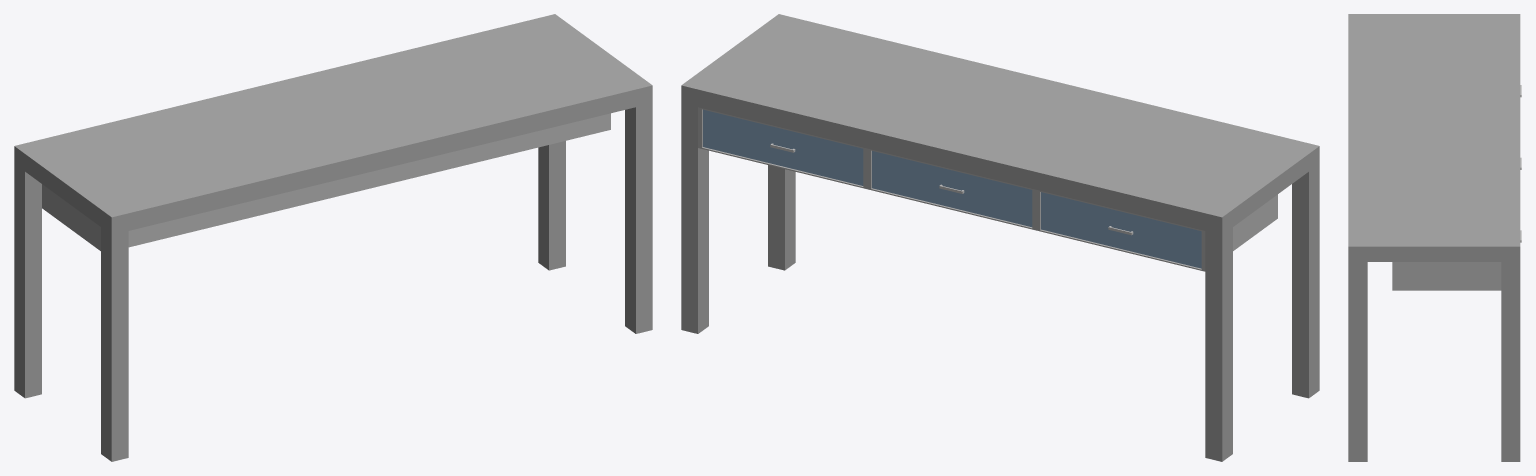
File: Table2.fbx
3 views of the same model, side by side, from view 1: azimuth 30°, elevation 25°; view 2: azimuth 150°, elevation 25°; view 3: azimuth 270°, elevation 25° (orthographic). The views are drawn at different scales.
Parts seen in each view (by area): view 1: Cube, drawer 3, drawer 2, drawer; view 2: Cube, drawer face 3, drawer face, drawer face 2, drawer border 2, drawer border 3, drawer border, drawer 3; view 3: Cube, drawer.
Boxes of the visible parts, box(x1,y1,x2,y2) form: Cube: box(14, 14, 652, 461); drawer 3: box(42, 184, 272, 250); drawer 2: box(273, 154, 441, 212); drawer: box(442, 113, 610, 170); Cube: box(681, 14, 1319, 461); drawer face 3: box(1041, 192, 1201, 268); drawer face: box(703, 109, 863, 185); drawer face 2: box(872, 151, 1032, 226); drawer border 2: box(867, 148, 1036, 230); drawer border 3: box(1036, 190, 1205, 271); drawer border: box(698, 107, 867, 188); drawer 3: box(1233, 194, 1277, 250); Cube: box(1348, 14, 1520, 461); drawer: box(1392, 262, 1501, 290).
Size of the model in its own units: 640 by 277 by 201.
